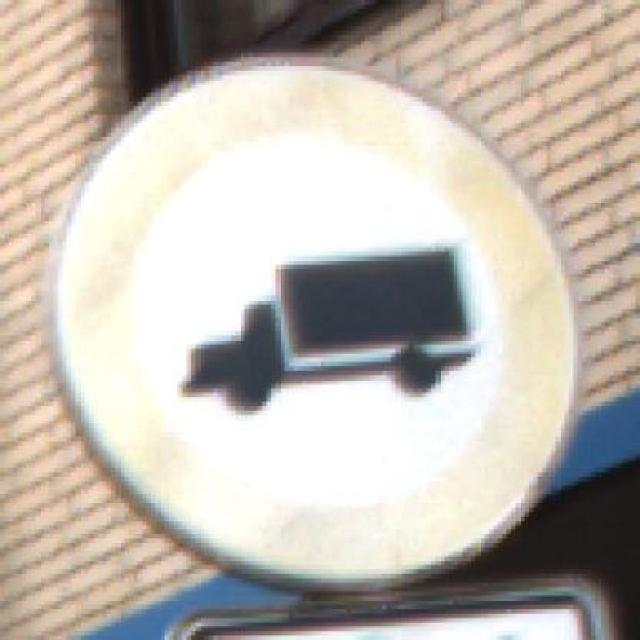Truck traffic is prohibited: (13, 52, 604, 590)
